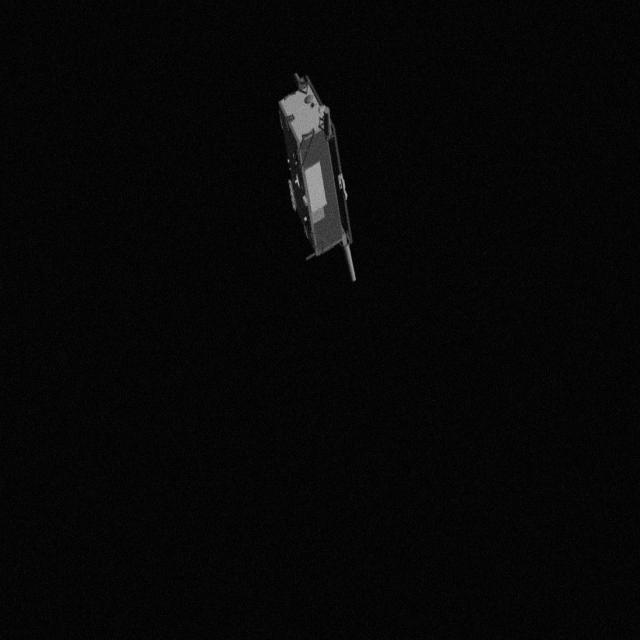medium_debris: (270, 68, 366, 286)
